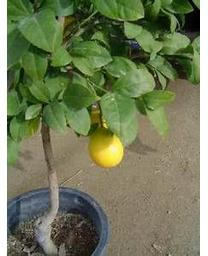lemon: (90, 132, 123, 169)
